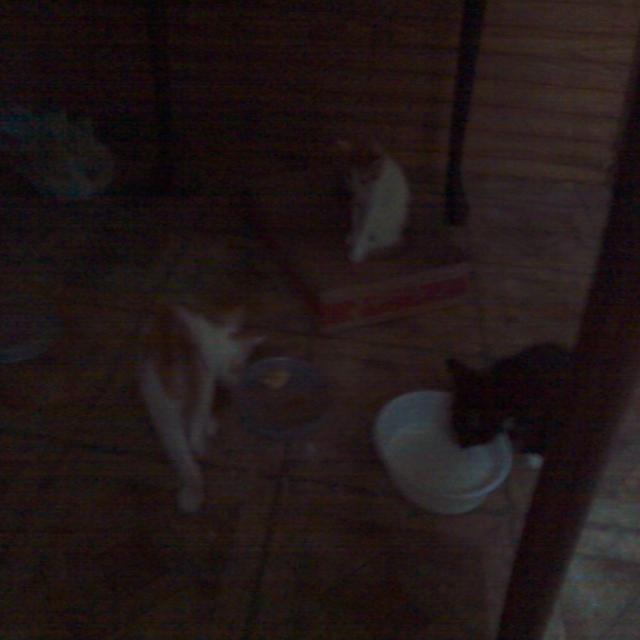Cat: (131, 288, 248, 515), (440, 333, 603, 495), (327, 123, 424, 288)
